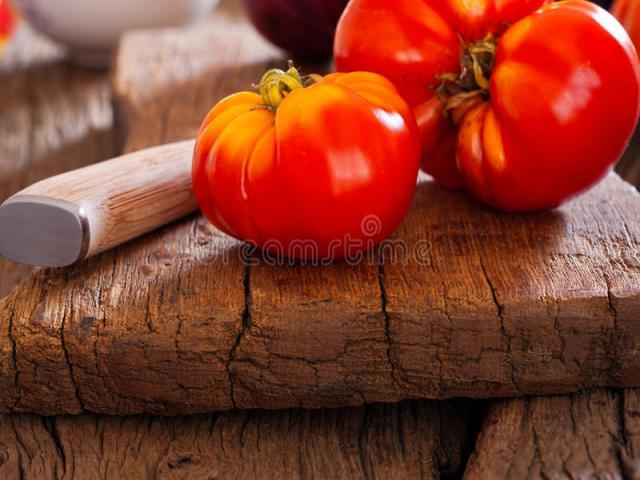tomato: (191, 82, 418, 248), (471, 9, 631, 232)
